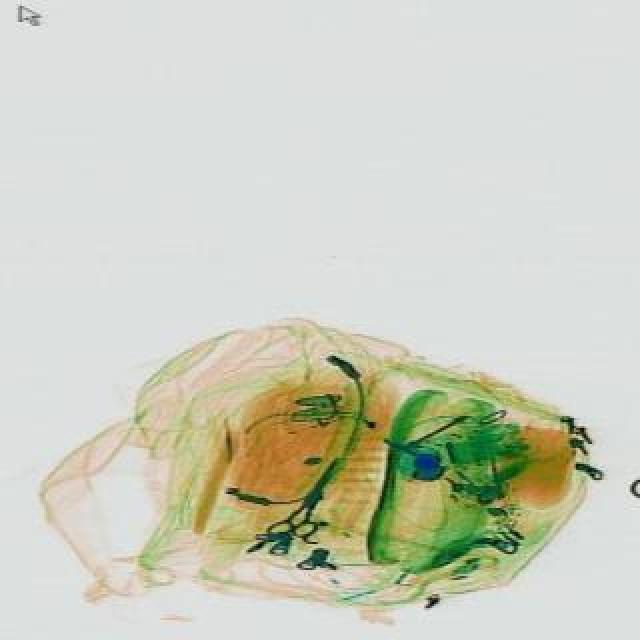pliers: (260, 448, 356, 554)
